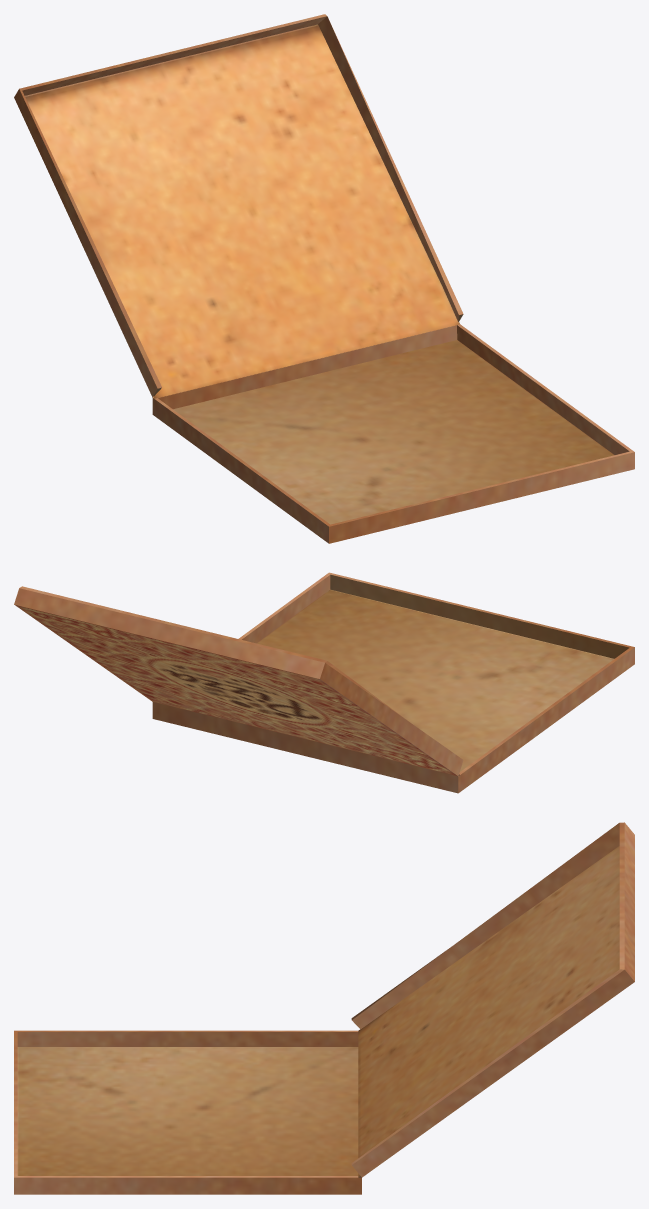
The model's file is pizza_box_clean.glb.
3 renders of one model, top to bottom at view 1: azimuth 30°, elevation 25°; view 2: azimuth 150°, elevation 25°; view 3: azimuth 270°, elevation 25°, orthographic.
Visible parts, largest first — view 1: pizza box clean; view 2: pizza box clean; view 3: pizza box clean.
Boxes of the visible parts, left/top/right/bottom form: pizza box clean: left=14, top=14, right=634, bottom=543; pizza box clean: left=14, top=572, right=634, bottom=793; pizza box clean: left=14, top=822, right=634, bottom=1194.
Size of the model in its own units: 0.5276 by 0.3762 by 0.9413.
1 material, 1 textured.
